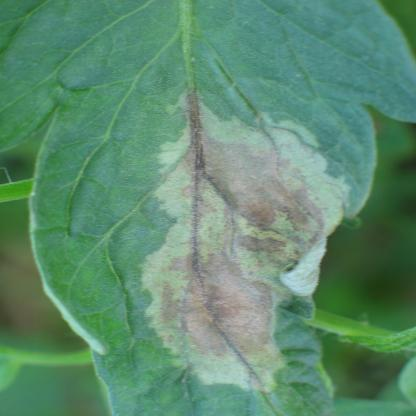tomato leaf late blight: (0, 2, 407, 414)
